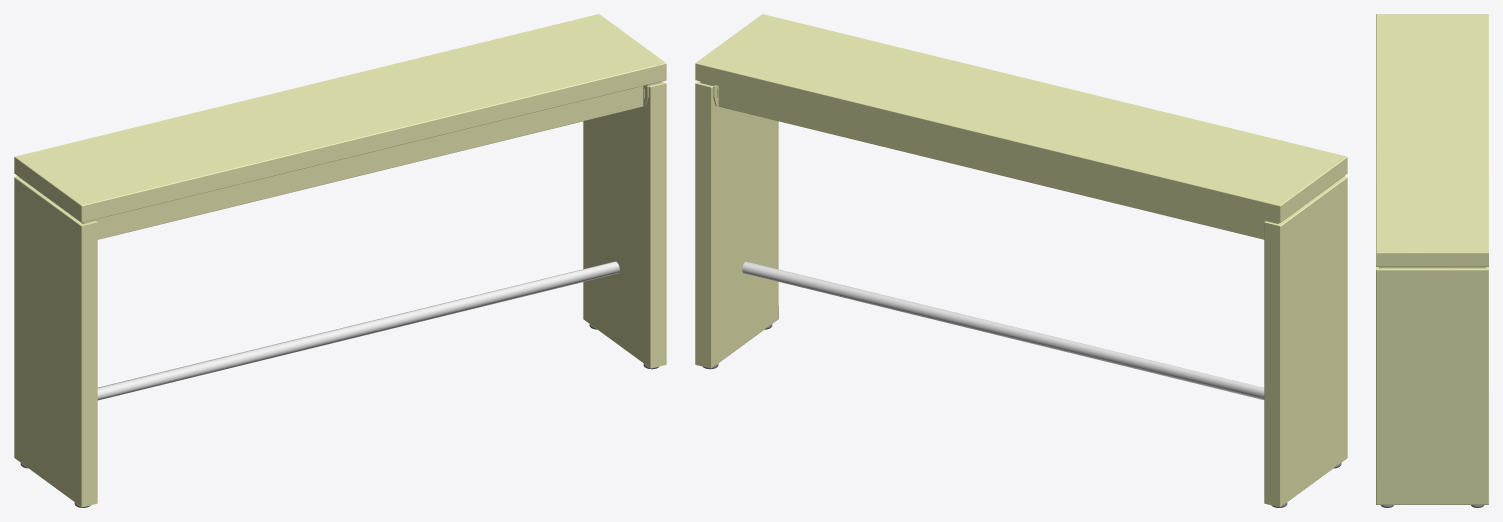
The picture shows the model from 3 angles, left to right: view 1: azimuth 30°, elevation 25°; view 2: azimuth 150°, elevation 25°; view 3: azimuth 270°, elevation 25°; orthographic projection. The views are drawn at different scales.
Parts seen in each view (by area): view 1: ae5b1a37-8cfa-4743-b716-3d7d72ccb881, ed02745f-621a-4bd8-bdd1-55a1556023ad, 337c5e95-8251-4b58-93bf-9a756383376e, 8db20997-4f2c-4a2d-8233-ffb852acab34; view 2: ae5b1a37-8cfa-4743-b716-3d7d72ccb881, ed02745f-621a-4bd8-bdd1-55a1556023ad, 337c5e95-8251-4b58-93bf-9a756383376e, 8db20997-4f2c-4a2d-8233-ffb852acab34; view 3: ae5b1a37-8cfa-4743-b716-3d7d72ccb881, ed02745f-621a-4bd8-bdd1-55a1556023ad, 337c5e95-8251-4b58-93bf-9a756383376e.
Part boxes in pixels (x1,y1,x2,y2): ae5b1a37-8cfa-4743-b716-3d7d72ccb881: (14, 14, 665, 506); ed02745f-621a-4bd8-bdd1-55a1556023ad: (14, 14, 666, 507); 337c5e95-8251-4b58-93bf-9a756383376e: (19, 81, 661, 239); 8db20997-4f2c-4a2d-8233-ffb852acab34: (97, 261, 619, 400); ae5b1a37-8cfa-4743-b716-3d7d72ccb881: (696, 14, 1347, 506); ed02745f-621a-4bd8-bdd1-55a1556023ad: (695, 14, 1347, 507); 337c5e95-8251-4b58-93bf-9a756383376e: (700, 81, 1342, 239); 8db20997-4f2c-4a2d-8233-ffb852acab34: (742, 261, 1264, 399); ae5b1a37-8cfa-4743-b716-3d7d72ccb881: (1376, 14, 1488, 504); ed02745f-621a-4bd8-bdd1-55a1556023ad: (1376, 14, 1488, 504); 337c5e95-8251-4b58-93bf-9a756383376e: (1379, 267, 1485, 268).
Size of the model in its own units: 2 by 0.9995 by 0.3995.
3 materials, 2 textured.
